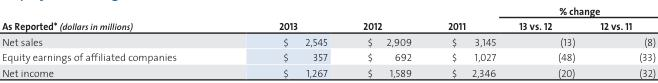table: (1, 1, 655, 80)
table column: (1, 1, 227, 80), (227, 1, 344, 80), (344, 1, 429, 80), (506, 1, 586, 80), (429, 1, 506, 80), (586, 1, 655, 80)
table column header: (1, 1, 655, 33)
table row: (1, 1, 655, 17), (1, 17, 655, 33), (1, 48, 655, 64), (1, 64, 655, 80), (1, 33, 655, 48)
table spanning cell: (1, 1, 227, 33), (227, 1, 344, 33), (344, 1, 429, 33), (429, 1, 506, 33), (506, 1, 655, 17)
